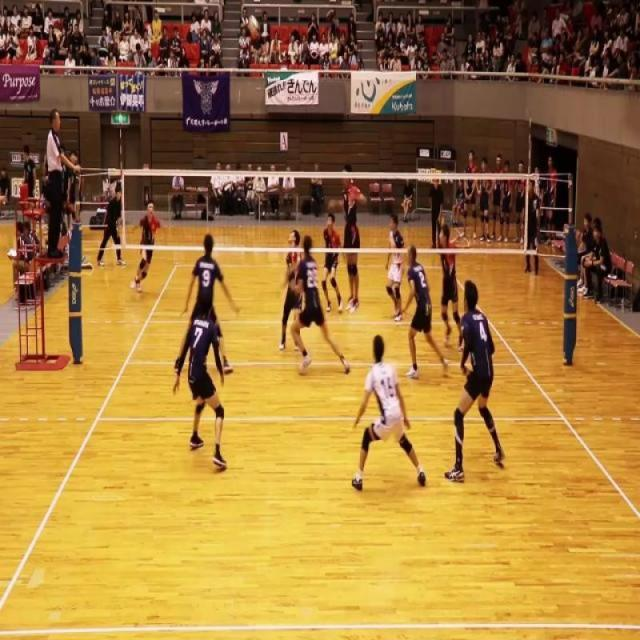volleyball: (248, 12, 260, 42)
